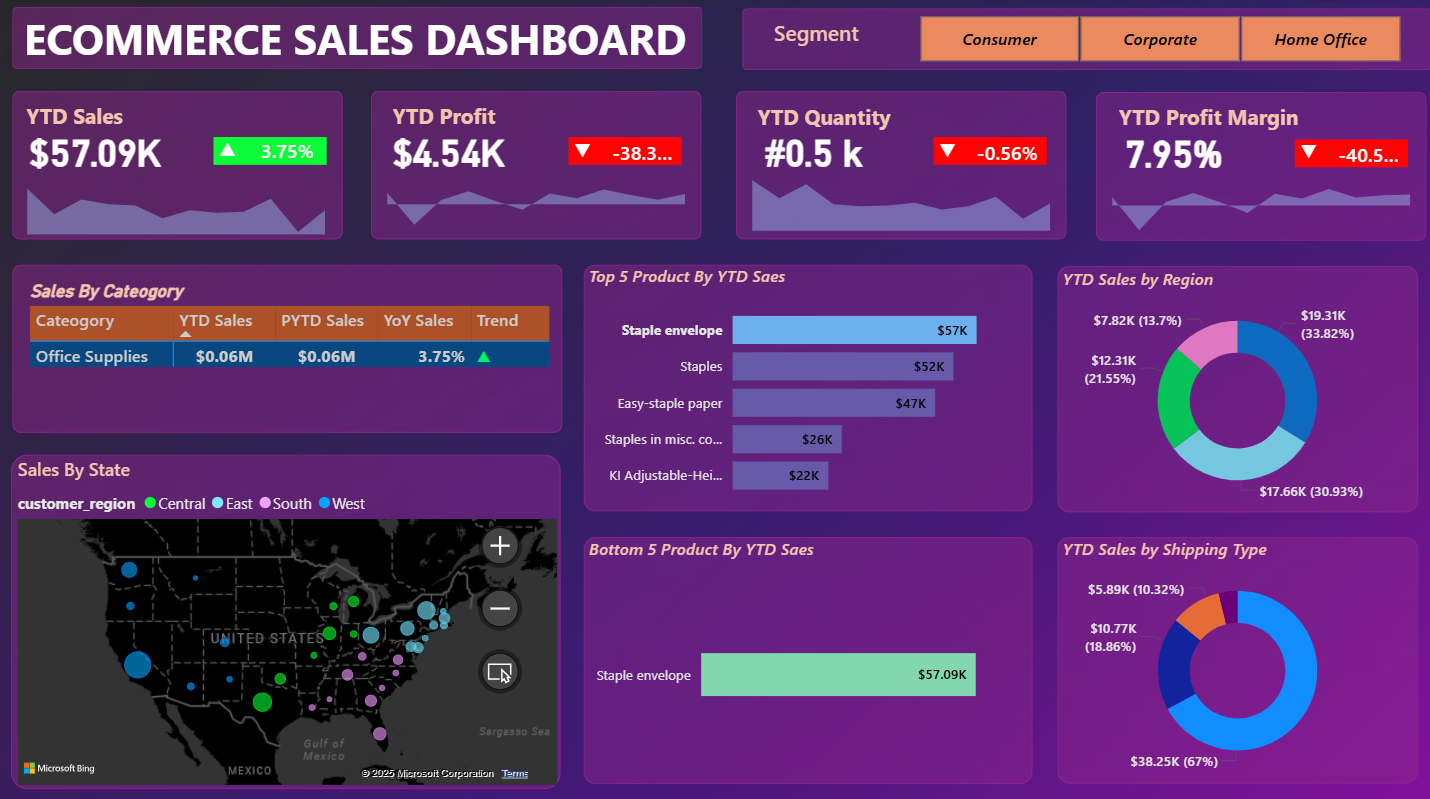

The dashboard page shown, as its layout file describes it:
{"tool":"powerbi","page":{"name":"Page 1","canvas":[1280,720],"ordinal":0},"visuals":[{"type":"shape","box":[14.7,8.6,614.7,55.2],"z":0},{"type":"textbox","box":[19.6,6.1,630.7,61.4],"z":1000},{"type":"shape","box":[14.7,83.4,294.5,132.5],"z":2000},{"type":"card","fields":{"Values":["ecommerce_data.YTD Sales"]},"box":[18.4,106.7,138.7,58.9],"z":3000},{"type":"areaChart","fields":{"Category":["Calendar.Month"],"Y":["Sum(ecommerce_data.sales_per_order)"]},"box":[13.5,149.7,294.5,67.5],"z":4000},{"type":"shape","box":[193.9,125.2,100.6,24.5],"z":5000},{"type":"card","fields":{"Values":["ecommerce_data.YoY Sales"]},"box":[224.5,125.2,69.9,28.2],"z":6000},{"type":"card","fields":{"Values":["ecommerce_data.Sales Icon"]},"box":[193.9,120.2,25.8,33.1],"z":7000},{"type":"textbox","box":[22.1,88.3,110.4,35.6],"z":8000},{"type":"shape","box":[333.5,83.4,294.5,132.5],"z":9000},{"type":"card","fields":{"Values":["ecommerce_data.YTD Profit"]},"box":[333.5,106.7,138.7,58.9],"z":10000},{"type":"areaChart","fields":{"Category":["Calendar.Month"],"Y":["Sum(ecommerce_data.profit_per_order)"]},"box":[333.5,147.2,294.5,67.5],"z":11000},{"type":"shape","box":[510.2,125.2,100.6,24.5],"z":12000},{"type":"card","fields":{"Values":["ecommerce_data.YoY Profit"]},"box":[540.9,126.4,69.9,28.2],"z":13000},{"type":"card","fields":{"Values":["ecommerce_data.Profit Icon"]},"box":[510.2,121.5,25.8,33.1],"z":14000},{"type":"textbox","box":[348.2,88.3,110.4,35.6],"z":15000},{"type":"shape","box":[658.7,83.4,294.5,132.5],"z":16000},{"type":"card","fields":{"Values":["ecommerce_data.YTD Qty logo"]},"box":[658.7,106.7,138.7,58.9],"z":17000},{"type":"areaChart","fields":{"Category":["Calendar.Month"],"Y":["Sum(ecommerce_data.order_quantity)"]},"box":[658.7,147.2,294.5,67.5],"z":18000},{"type":"shape","box":[835.4,125.2,100.6,24.5],"z":19000},{"type":"card","fields":{"Values":["ecommerce_data.YoY Qty"]},"box":[866,126.4,69.9,28.2],"z":20000},{"type":"card","fields":{"Values":["ecommerce_data.Quantity Icon"]},"box":[835.4,121.5,25.8,33.1],"z":21000},{"type":"textbox","box":[673.7,88.9,141.1,35.6],"z":22000},{"type":"shape","box":[980.1,84.7,294.5,132.5],"z":23000},{"type":"card","fields":{"Values":["ecommerce_data.YTD Profit Margin"]},"box":[980.1,108,138.7,58.9],"z":24000},{"type":"areaChart","fields":{"Category":["Calendar.Month"],"Y":["ecommerce_data.Profit Margin"]},"box":[980.1,148.5,294.5,67.5],"z":25000},{"type":"shape","box":[1156.8,126.4,100.6,24.5],"z":26000},{"type":"card","fields":{"Values":["ecommerce_data.YoY Profit Margin"]},"box":[1187.5,127.6,69.9,28.2],"z":27000},{"type":"card","fields":{"Values":["ecommerce_data.Profit Margin Icon"]},"box":[1156.8,122.7,25.8,33.1],"z":28000},{"type":"textbox","box":[995.1,89.6,192.6,35.6],"z":29000},{"type":"shape","box":[14.7,238,490,150],"z":30000},{"type":"pivotTable","title":"Sales By  Cateogory","fields":{"Rows":["ecommerce_data.category_name"],"Values":["ecommerce_data.YTD Sales","ecommerce_data.PYTD Sales","ecommerce_data.YoY Sales","ecommerce_data.Sales Icon"]},"box":[25.8,252.8,473.6,131.3],"z":31000},{"type":"shape","box":[13.5,407.4,489.6,298.2],"z":32000},{"type":"map","title":"Sales By State","fields":{"X":["us_state_long_lat_codes.longitude"],"Y":["us_state_long_lat_codes.latitude"],"Size":["ecommerce_data.YTD Sales"],"Series":["ecommerce_data.customer_region"]},"box":[14.7,408.6,489.6,298.2],"z":33000},{"type":"shape","box":[522.7,238,400,220],"z":34000},{"type":"shape","box":[522.7,481,400,220],"z":35000},{"type":"barChart","title":"Top 5 Product By YTD Saes","fields":{"Category":["ecommerce_data.product_name"],"Y":["ecommerce_data.YTD Sales"]},"box":[522.7,238,400,219.6],"z":36000},{"type":"barChart","title":"Bottom 5 Product By YTD Saes","fields":{"Category":["ecommerce_data.product_name"],"Y":["ecommerce_data.YTD Sales"]},"box":[522.7,481,400,219.6],"z":37000},{"type":"shape","box":[944.8,239.3,321.5,219.6],"z":37001},{"type":"shape","box":[944.8,481,321.5,219.6],"z":37002},{"type":"donutChart","title":"YTD Sales by Region","fields":{"Y":["ecommerce_data.YTD Sales"],"Category":["ecommerce_data.customer_region"]},"box":[944.8,240.5,321.5,218.4],"z":37003},{"type":"donutChart","title":"YTD Sales by Shipping Type","fields":{"Y":["ecommerce_data.YTD Sales"],"Category":["ecommerce_data.shipping_type"]},"box":[944.8,481,321.5,218.4],"z":37004},{"type":"shape","box":[665,9.8,614.7,55.2],"z":37005},{"type":"slicer","fields":{"Values":["ecommerce_data.customer_segment"]},"box":[797.6,9.8,477.3,54],"z":37006},{"type":"textbox","box":[688.3,14.7,114.1,45.4],"z":37007}]}

Visuals, with their boxes in screenshot pixels (x1, y1, x2, y2), scaled from the page's 1280x720 canvas onto the 1430x799 screenshot:
shape: 16 10 703 71
textbox: 22 7 727 75
shape: 16 93 345 240
card - ecommerce_data.YTD Sales: 21 118 176 184
areaChart - Calendar.Month x Sum(ecommerce_data.sales_per_order): 15 166 344 241
shape: 217 139 329 166
card - ecommerce_data.YoY Sales: 251 139 329 170
card - ecommerce_data.Sales Icon: 217 133 245 170
textbox: 25 98 148 137
shape: 373 93 702 240
card - ecommerce_data.YTD Profit: 373 118 528 184
areaChart - Calendar.Month x Sum(ecommerce_data.profit_per_order): 373 163 702 238
shape: 570 139 682 166
card - ecommerce_data.YoY Profit: 604 140 682 172
card - ecommerce_data.Profit Icon: 570 135 599 172
textbox: 389 98 512 137
shape: 736 93 1065 240
card - ecommerce_data.YTD Qty logo: 736 118 891 184
areaChart - Calendar.Month x Sum(ecommerce_data.order_quantity): 736 163 1065 238
shape: 933 139 1046 166
card - ecommerce_data.YoY Qty: 967 140 1046 172
card - ecommerce_data.Quantity Icon: 933 135 962 172
textbox: 753 99 910 138
shape: 1095 94 1424 241
card - ecommerce_data.YTD Profit Margin: 1095 120 1250 185
areaChart - Calendar.Month x ecommerce_data.Profit Margin: 1095 165 1424 240
shape: 1292 140 1405 167
card - ecommerce_data.YoY Profit Margin: 1327 142 1405 173
card - ecommerce_data.Profit Margin Icon: 1292 136 1321 173
textbox: 1112 99 1327 139
shape: 16 264 564 431
"Sales By  Cateogory" pivotTable: 29 281 558 426
shape: 15 452 562 783
"Sales By State" map: 16 453 563 784
shape: 584 264 1031 508
shape: 584 534 1031 778
"Top 5 Product By YTD Saes" barChart: 584 264 1031 508
"Bottom 5 Product By YTD Saes" barChart: 584 534 1031 777
shape: 1056 266 1415 509
shape: 1056 534 1415 777
"YTD Sales by Region" donutChart: 1056 267 1415 509
"YTD Sales by Shipping Type" donutChart: 1056 534 1415 776
shape: 743 11 1429 72
slicer - ecommerce_data.customer_segment: 891 11 1424 71
textbox: 769 16 896 67
